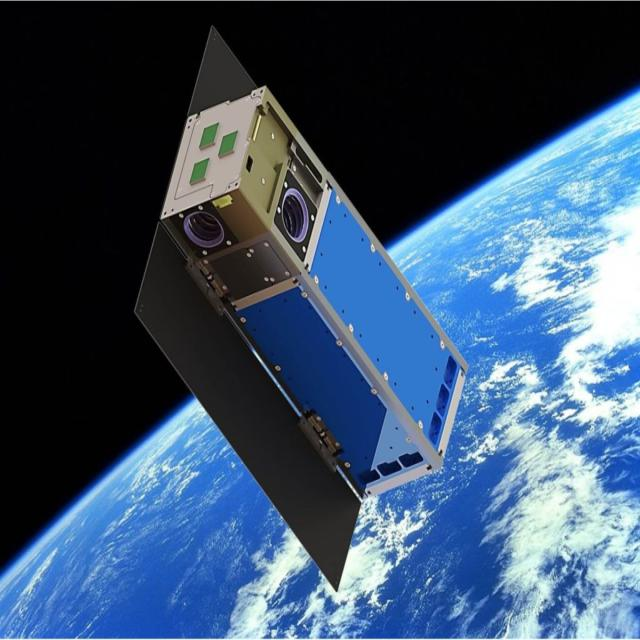medium_debris: (116, 19, 462, 582)
